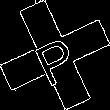P_NW: (28, 24, 82, 86)
